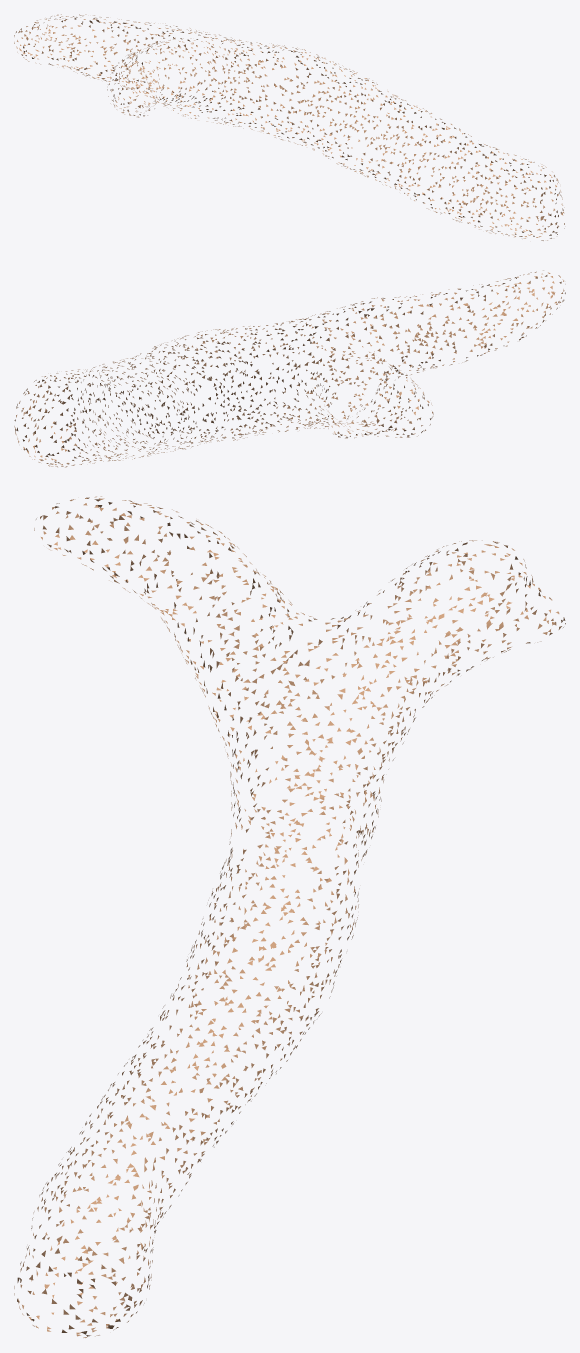
Rendered from morph_005.glb.
3 renders of one model, top to bottom at view 1: azimuth 30°, elevation 25°; view 2: azimuth 150°, elevation 25°; view 3: azimuth 270°, elevation 25°, orthographic. The views are drawn at different scales.
Size of the model in its own units: 113 by 62.38 by 66.25.
